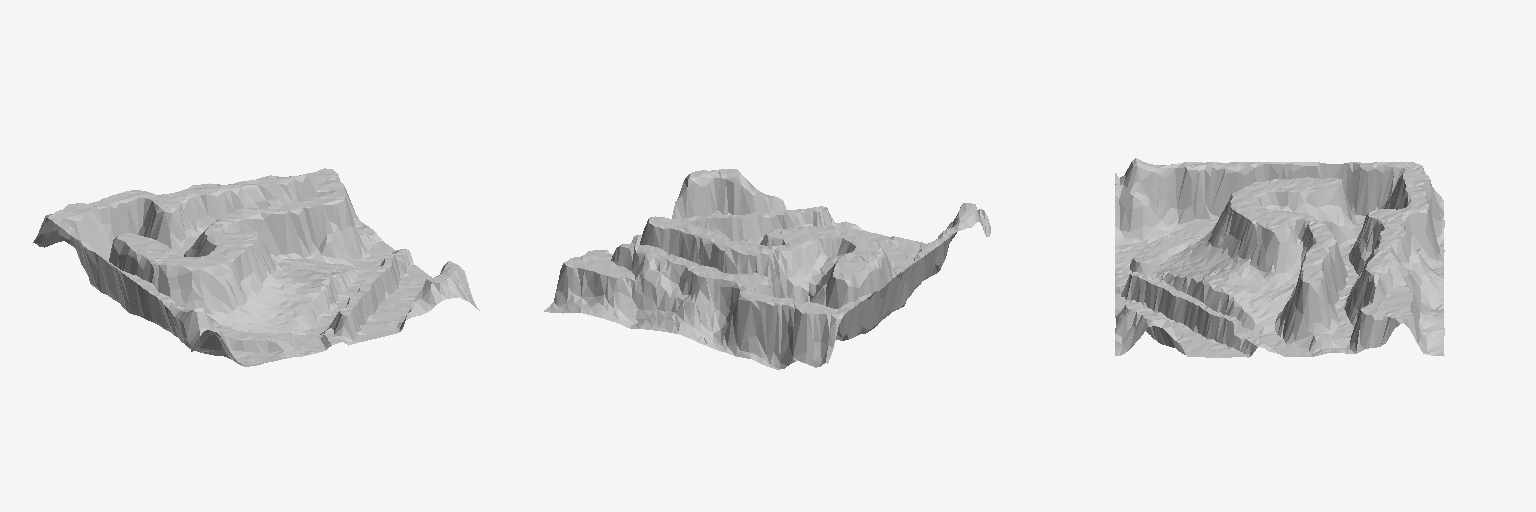
The model's file is Den.obj.
3 views of the same model, side by side, from view 1: azimuth 30°, elevation 25°; view 2: azimuth 150°, elevation 25°; view 3: azimuth 270°, elevation 25° (orthographic).
Visible parts, largest first — view 1: 1.012; view 2: 1.012; view 3: 1.012.
Part boxes in pixels (bbox=[...]): 1.012: bbox=[33, 168, 479, 366]; 1.012: bbox=[544, 169, 990, 369]; 1.012: bbox=[1115, 158, 1444, 357].
Bounding box in the file's own units: 101 × 21.59 × 100.